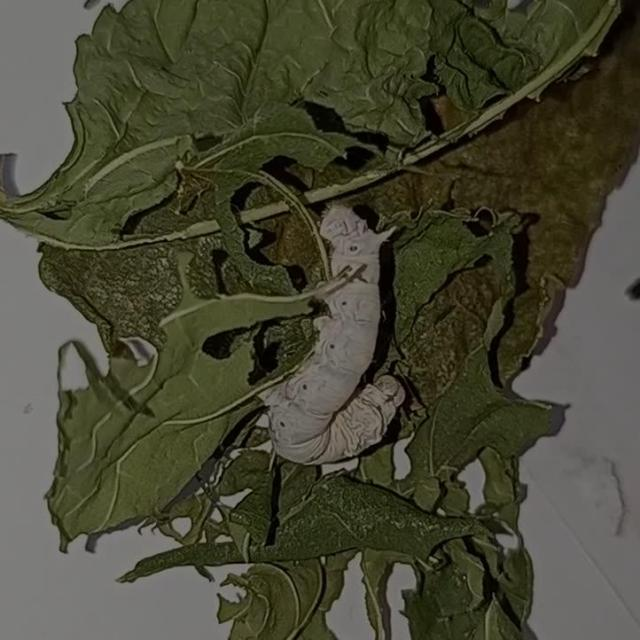Healthy: (249, 154, 430, 507)
